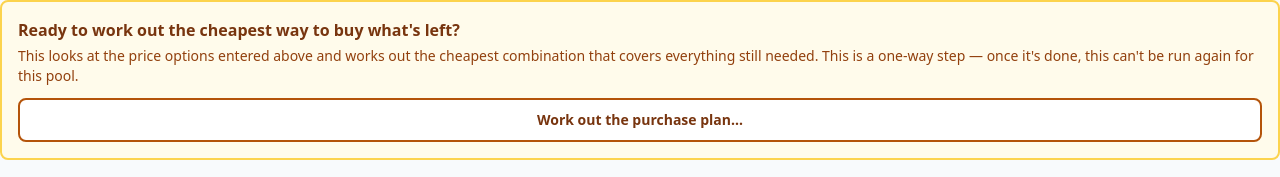
Test case: GeneratePurchasePlanAction › lets a cancel on the confirming step back out without calling the API
The image size is (1280, 177).
Click the button "Work out the purchase plan…".
click(640, 120)  # box [18, 98, 1262, 142]
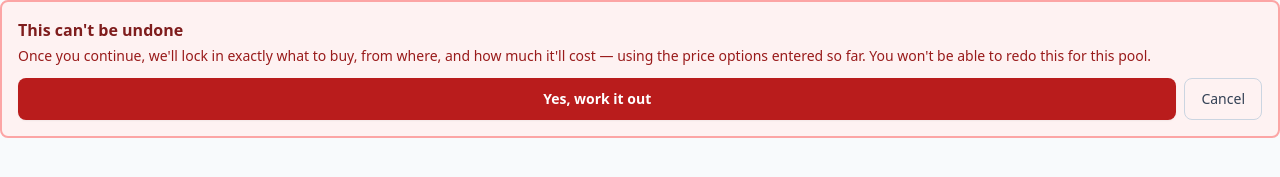
Click the button "Cancel".
click(1223, 99)  # box [1184, 78, 1262, 120]
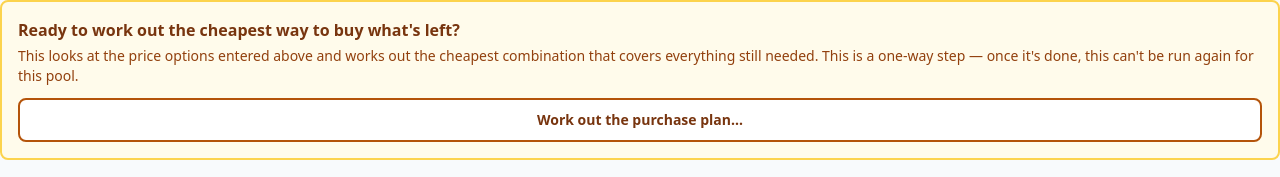
Now the button "Work out the purchase plan…" is shown, box [18, 98, 1262, 142]
